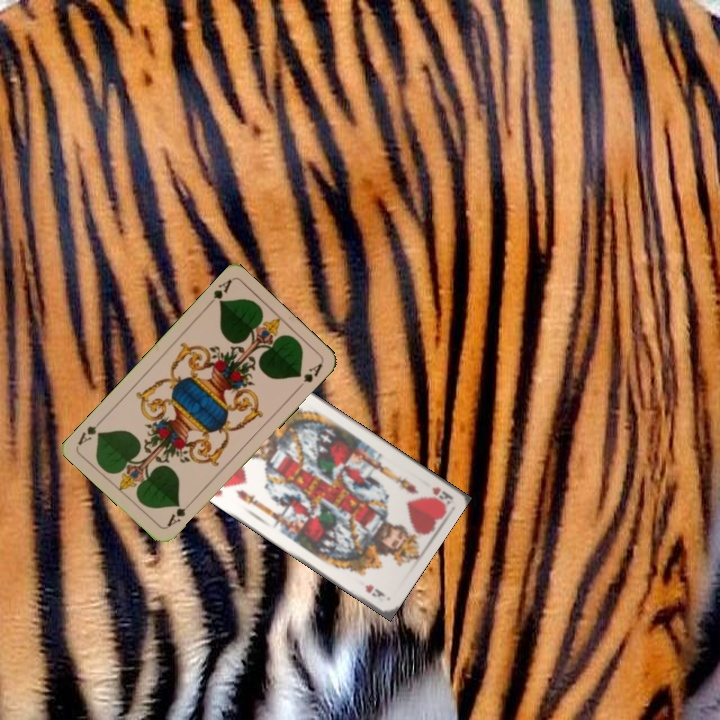GA: (203, 276, 234, 310), (163, 497, 194, 530)
HK: (428, 483, 454, 507)
